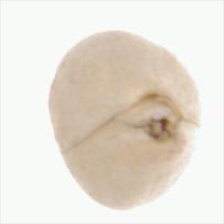L3: (117, 93, 190, 148)
L4: (50, 31, 201, 211)
